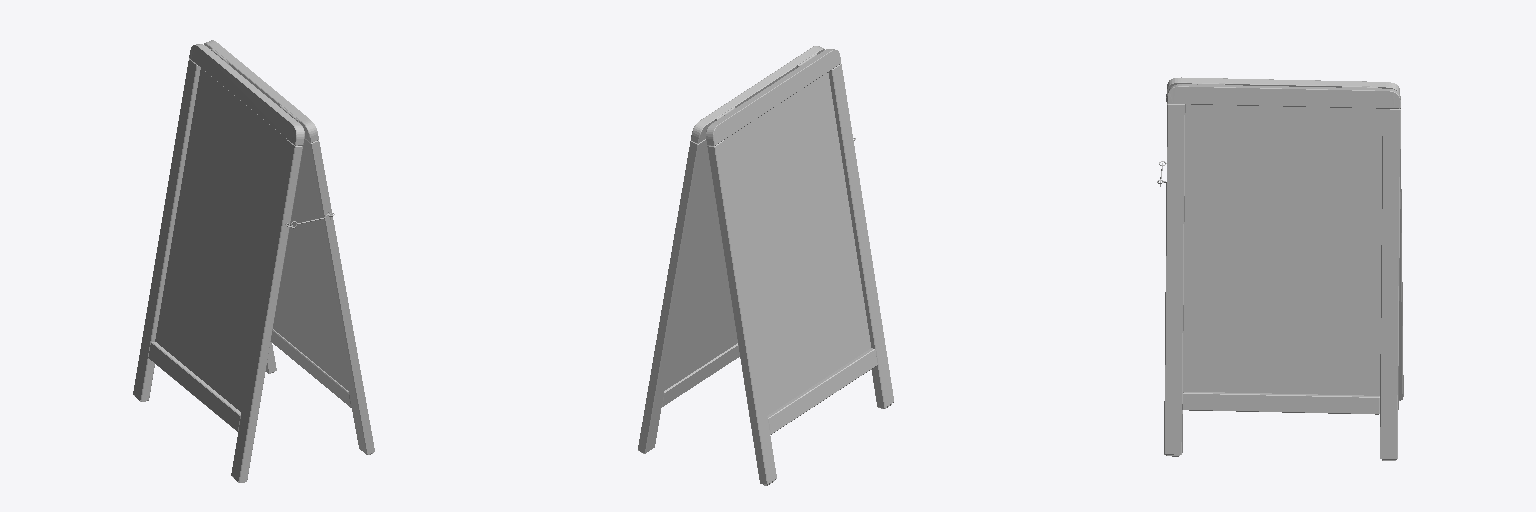
3 views of the same model, side by side, from view 1: azimuth 30°, elevation 25°; view 2: azimuth 150°, elevation 25°; view 3: azimuth 270°, elevation 25° (orthographic).
Parts seen in each view (by area): view 1: Bistro_Research_Exterior_Paris_MenuSign_01a1_6107; view 2: Bistro_Research_Exterior_Paris_MenuSign_01a1_6107; view 3: Bistro_Research_Exterior_Paris_MenuSign_01a1_6107.
Boxes of the visible parts, x1=… form: Bistro_Research_Exterior_Paris_MenuSign_01a1_6107: x1=133, y1=40, x2=374, y2=482; Bistro_Research_Exterior_Paris_MenuSign_01a1_6107: x1=638, y1=46, x2=893, y2=485; Bistro_Research_Exterior_Paris_MenuSign_01a1_6107: x1=1157, y1=77, x2=1403, y2=460.
Bounding box in the file's own units: 0.7012 × 1.6 × 1.05.